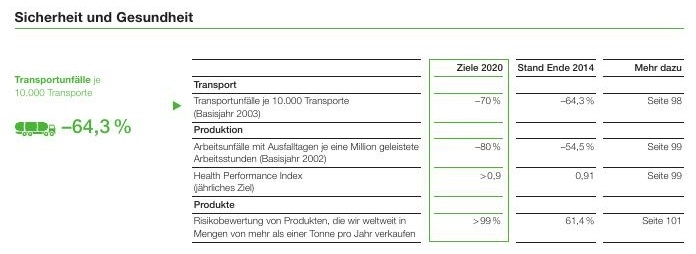table: (0, 0, 696, 254)
